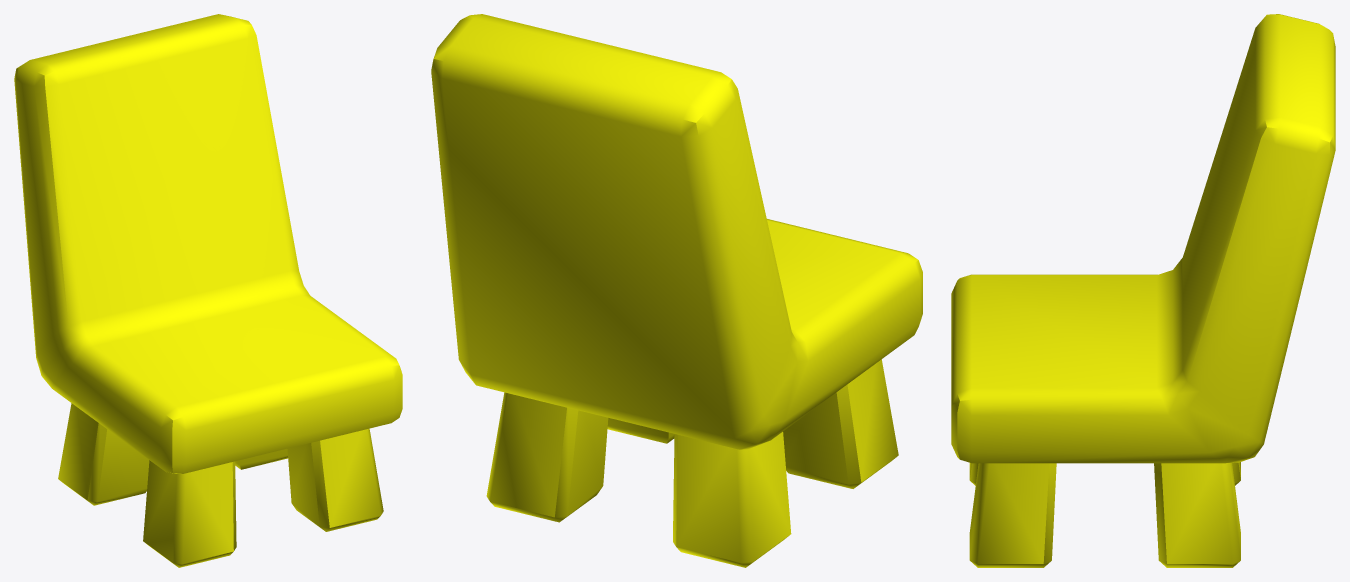
The model's file is kaykit-chair-c.glb.
The picture shows the model from 3 angles, left to right: view 1: azimuth 30°, elevation 25°; view 2: azimuth 150°, elevation 25°; view 3: azimuth 270°, elevation 25°; orthographic projection. The views are drawn at different scales.
Parts seen in each view (by area): view 1: chair_C; view 2: chair_C; view 3: chair_C.
Boxes of the visible parts, left/top/right/bottom form: chair_C: left=14, top=14, right=402, bottom=567; chair_C: left=431, top=14, right=922, bottom=567; chair_C: left=951, top=14, right=1335, bottom=567.
Bounding box in the file's own units: 0.75 × 1.2 × 0.9357.
